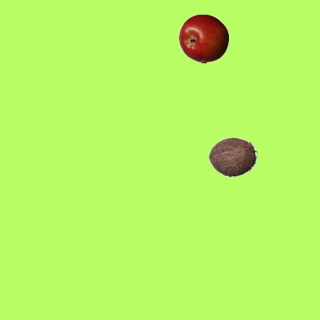Apple Braeburn: (178, 13, 228, 63)
Cocos: (207, 131, 257, 181)
